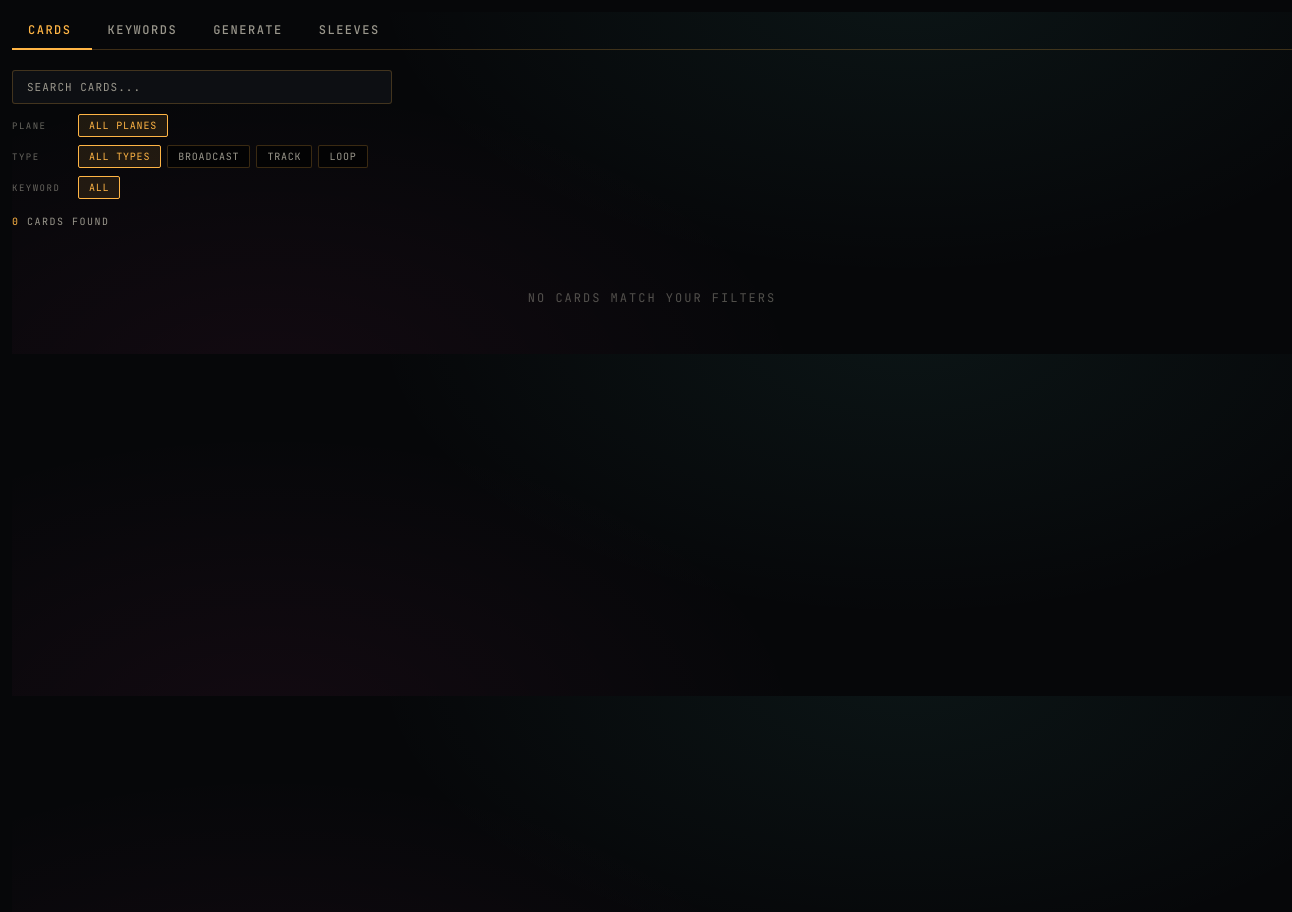
Scenario: CodexView › refreshes the registry after a successful generation
This screenshot has width=1292, height=912.
Click the button "GENERATE" at (250, 31), box [197,12,303,50]
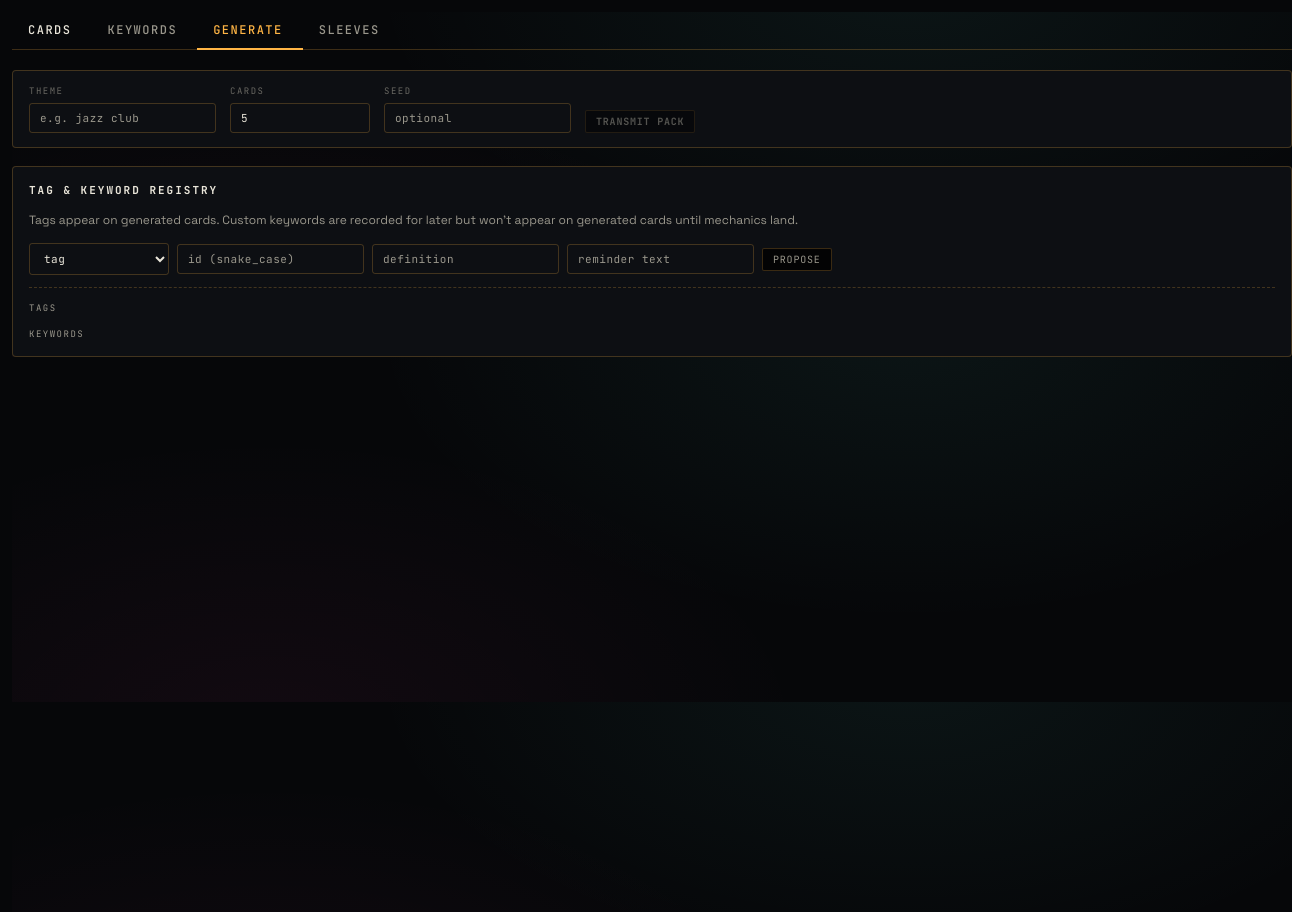
Type "jazz club" into the field named "Theme" at (122, 118), box [29,103,216,133]
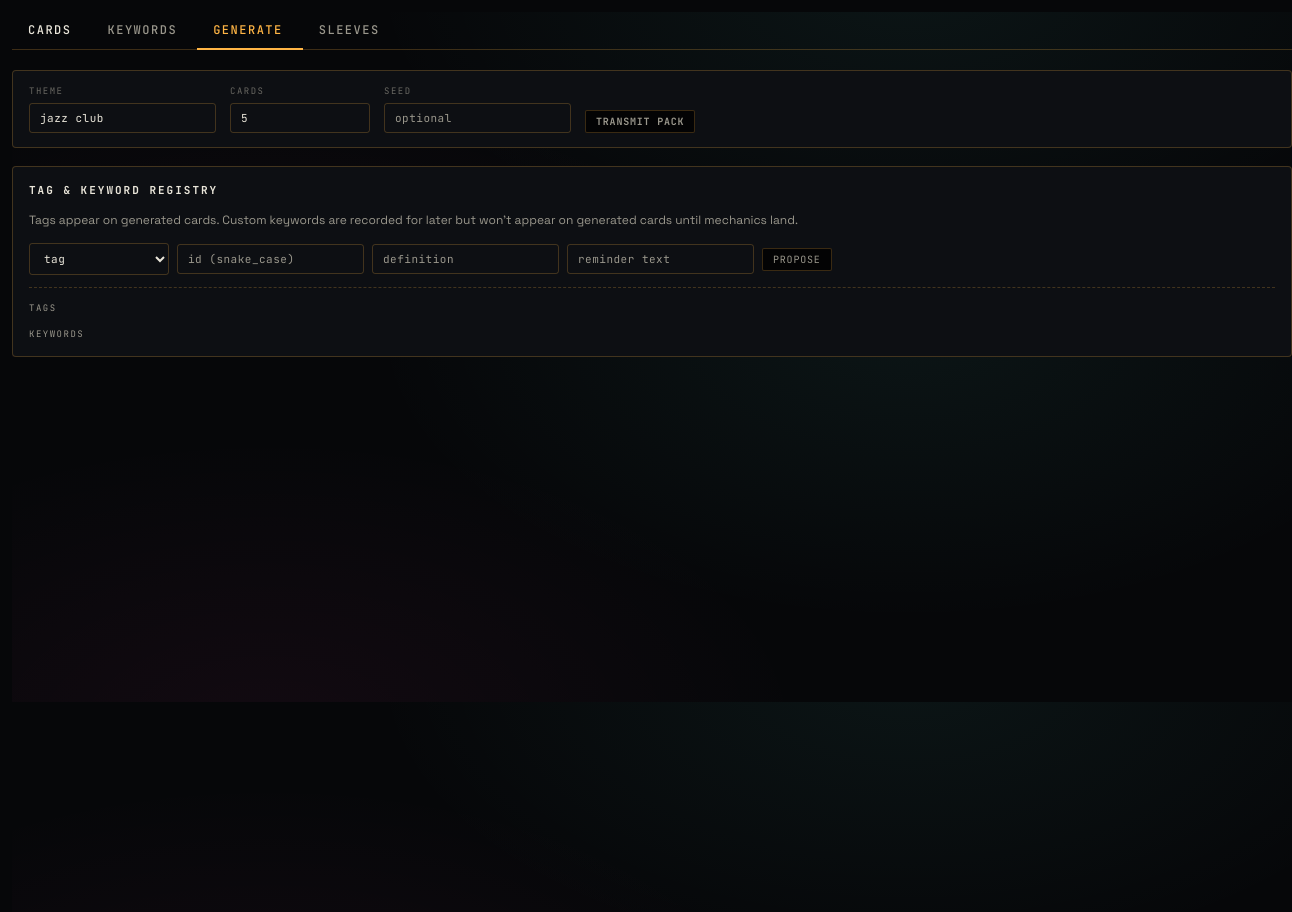
Click the button "TRANSMIT PACK" at (640, 122), box [585,110,695,133]
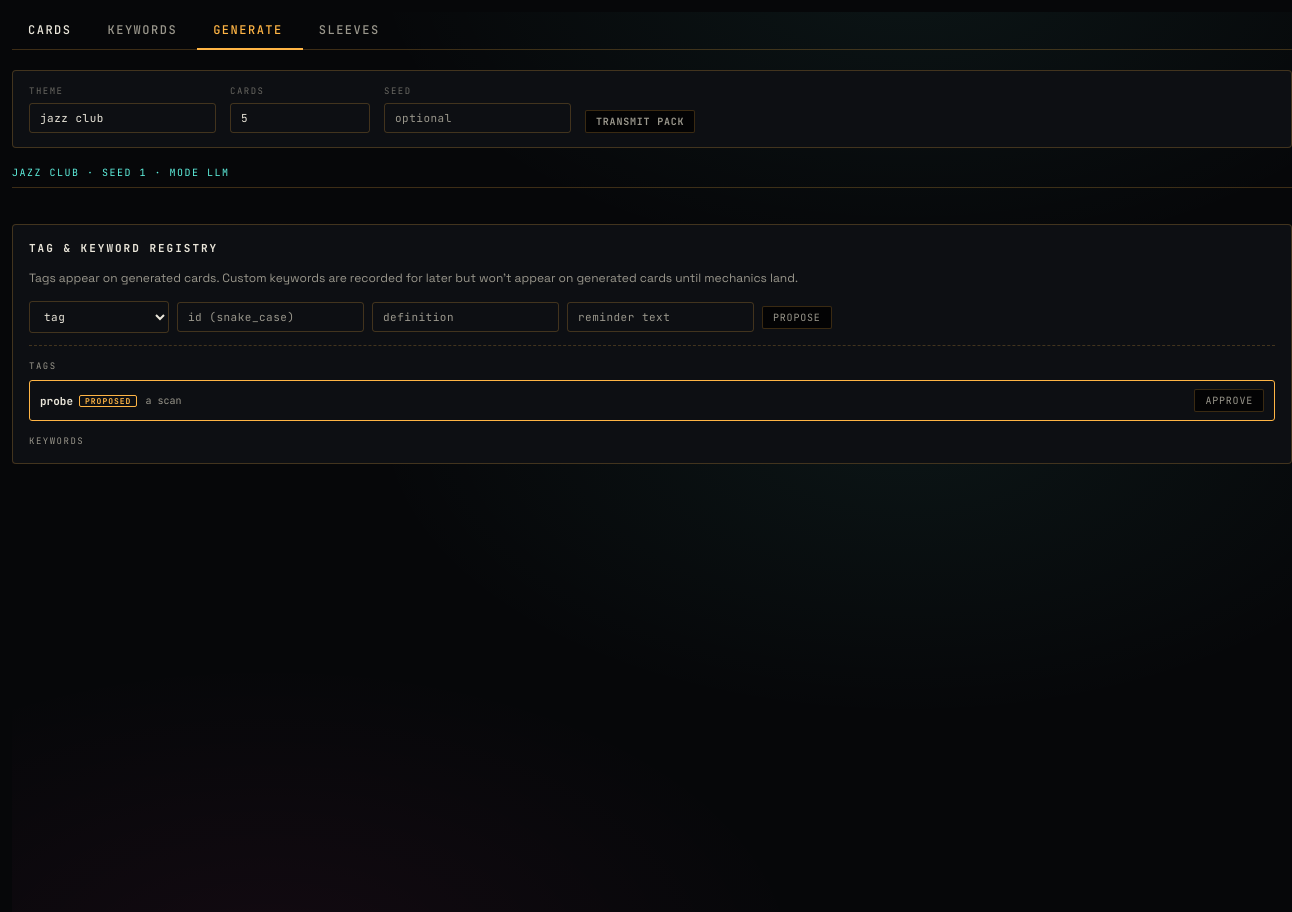
Check: the text "probe" is shown, box [40,394,73,408]
